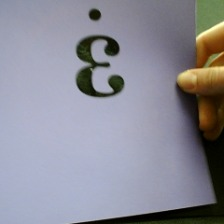violet3: (67, 4, 131, 110)
